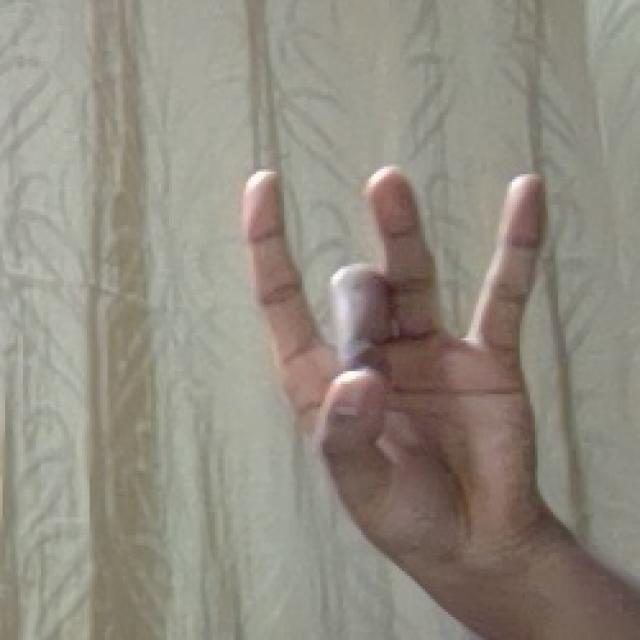Numeric-8: (240, 152, 559, 572)
